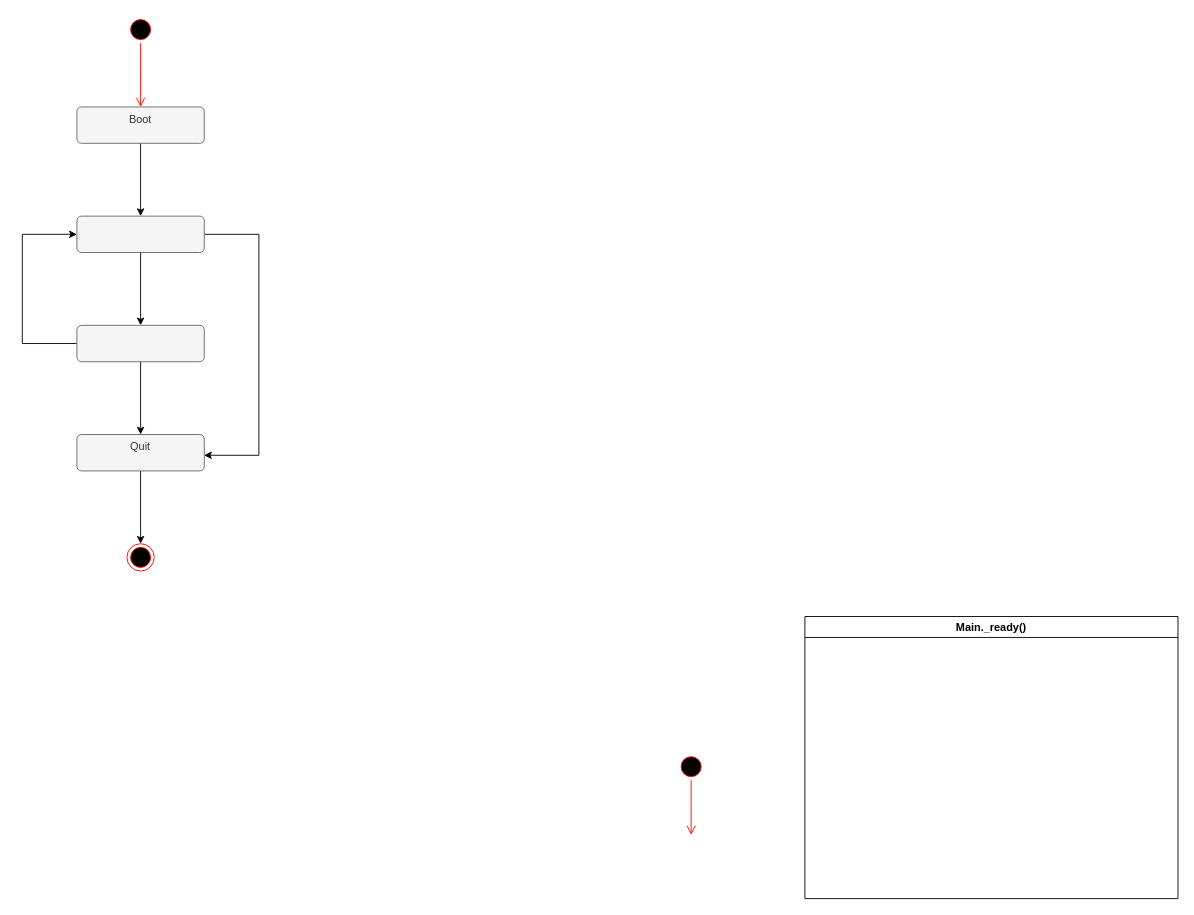
Some shapes in this 1194 by 915 pixel diagram are drawn without their labels. The centre of each missing label's shape, as x and y in pixels:
"Game" belongs at (140,343).
"Main Menu" belongs at (140,234).
